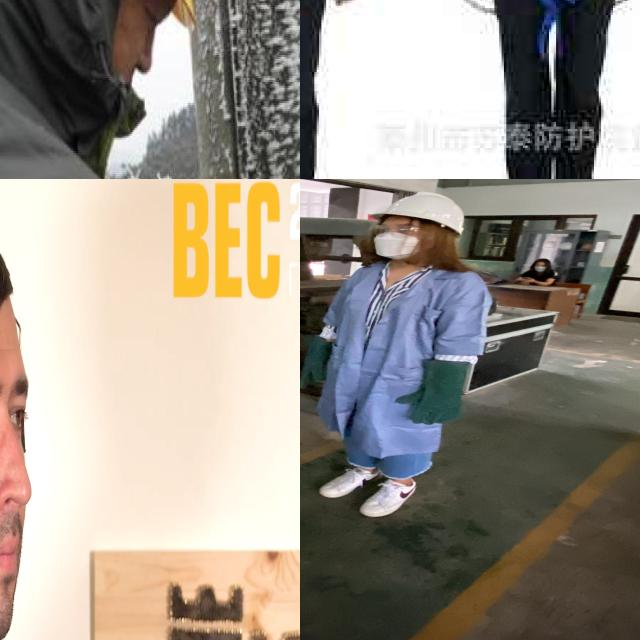No_Glasses: (0, 348, 40, 459)
face_mask: (366, 216, 421, 258), (533, 263, 547, 272)
glasses: (369, 221, 424, 238)
hand_glove: (392, 382, 468, 427), (300, 352, 331, 394)
hand_noglove: (519, 276, 536, 284)
head_helmet: (368, 191, 470, 231)
head_nohelmet: (533, 257, 551, 264)
person: (300, 188, 489, 518), (0, 179, 79, 640)
shoes: (347, 472, 425, 521), (313, 461, 386, 500)
